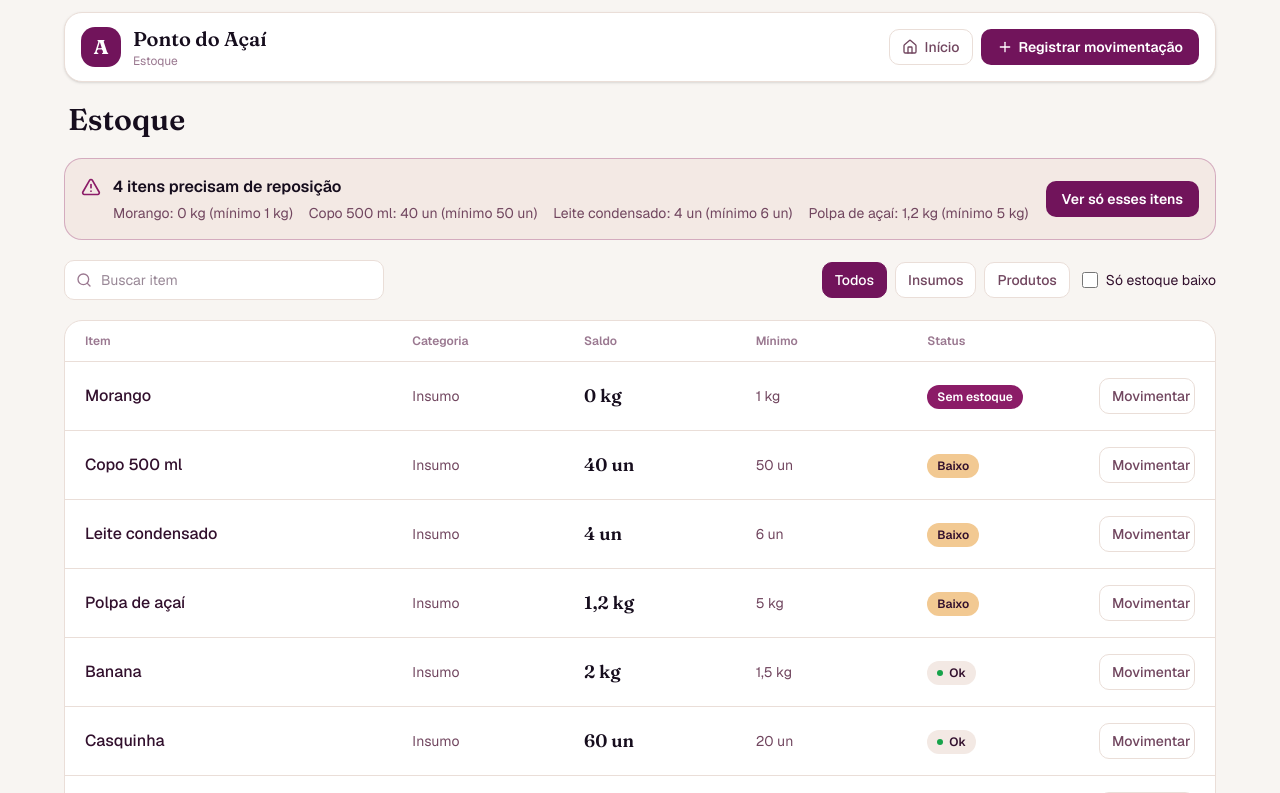
InventoryExperience › previews the resulting balance before saving
The width and height of the screenshot is (1280, 793).
Click the button with aria-label "Movimentar Polpa de açaí" at (1147, 603), box [1099,585,1195,621]
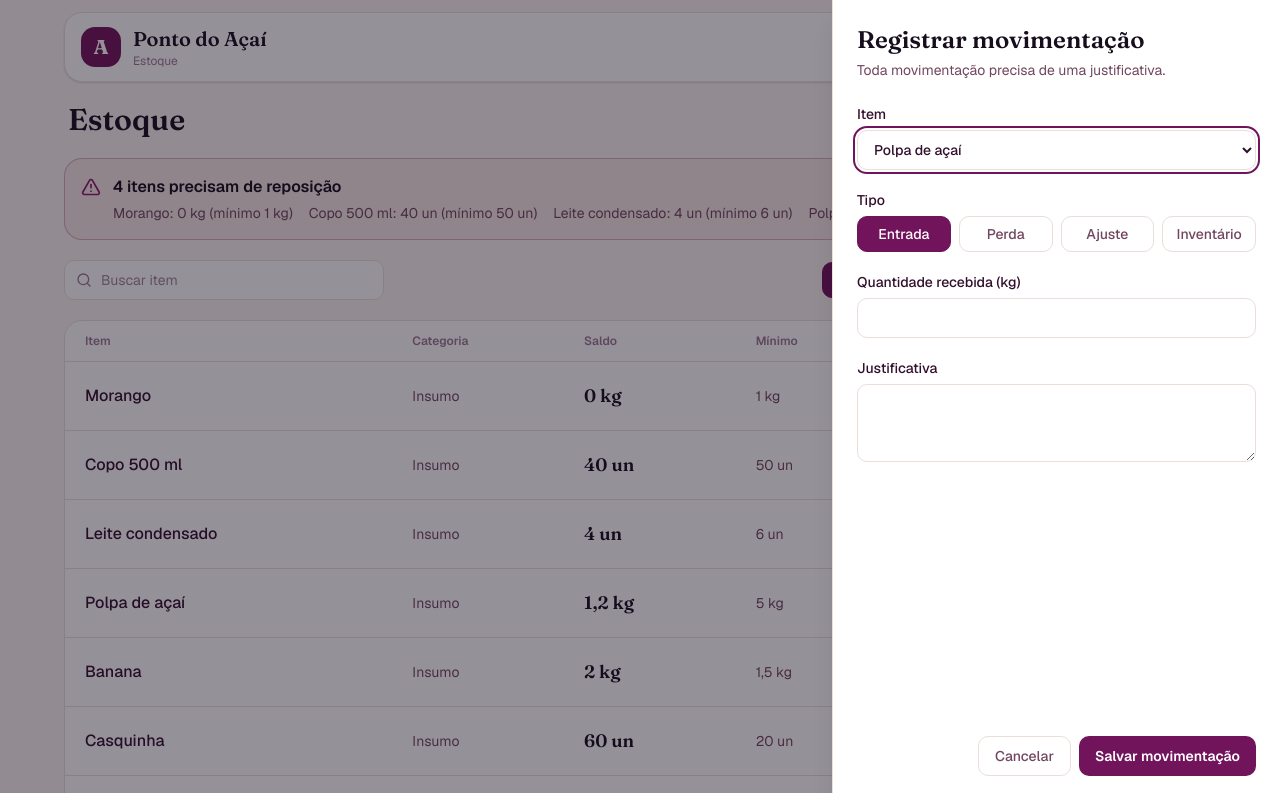
Type "10" into the field labelled "Quantidade recebida (kg)" at (1056, 318), box [857,298,1256,338]
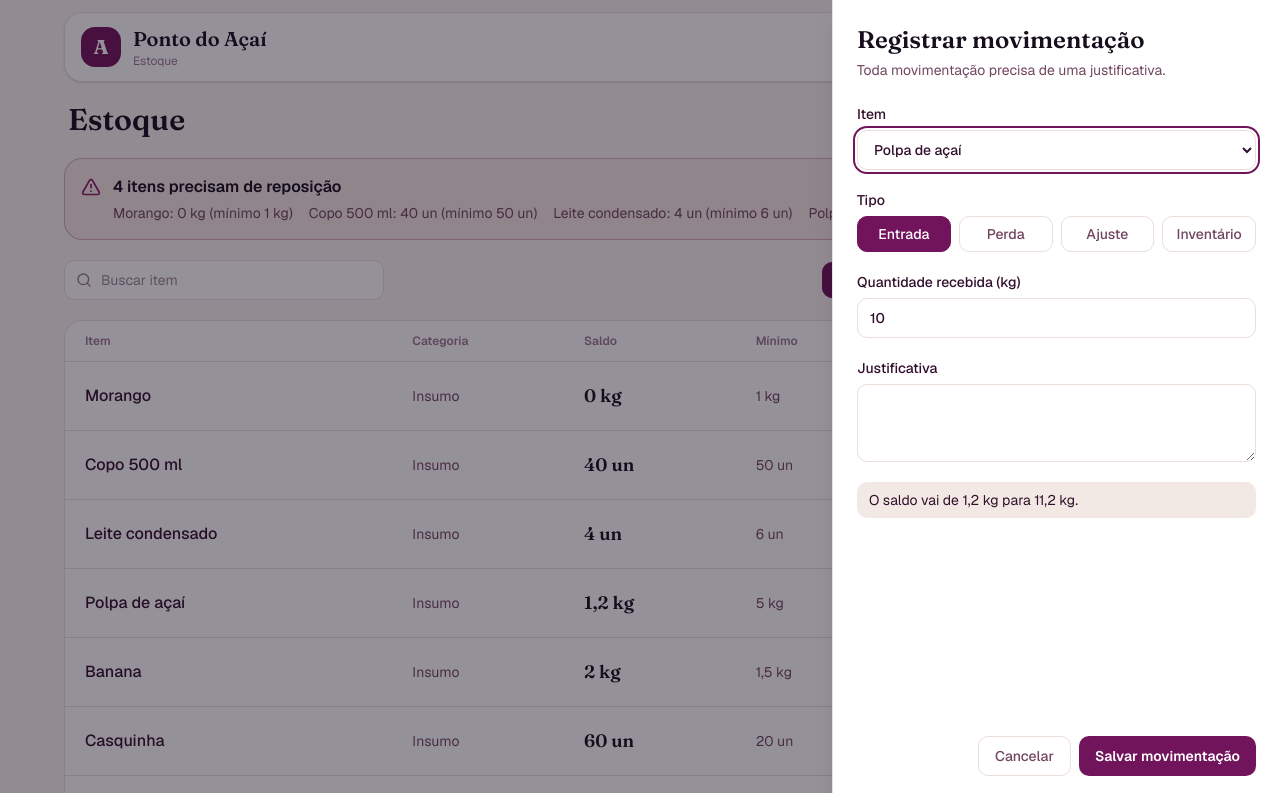
Expected: the text "O saldo vai de 1,2 kg para 11,2 kg." is shown, [857,482,1256,518]
